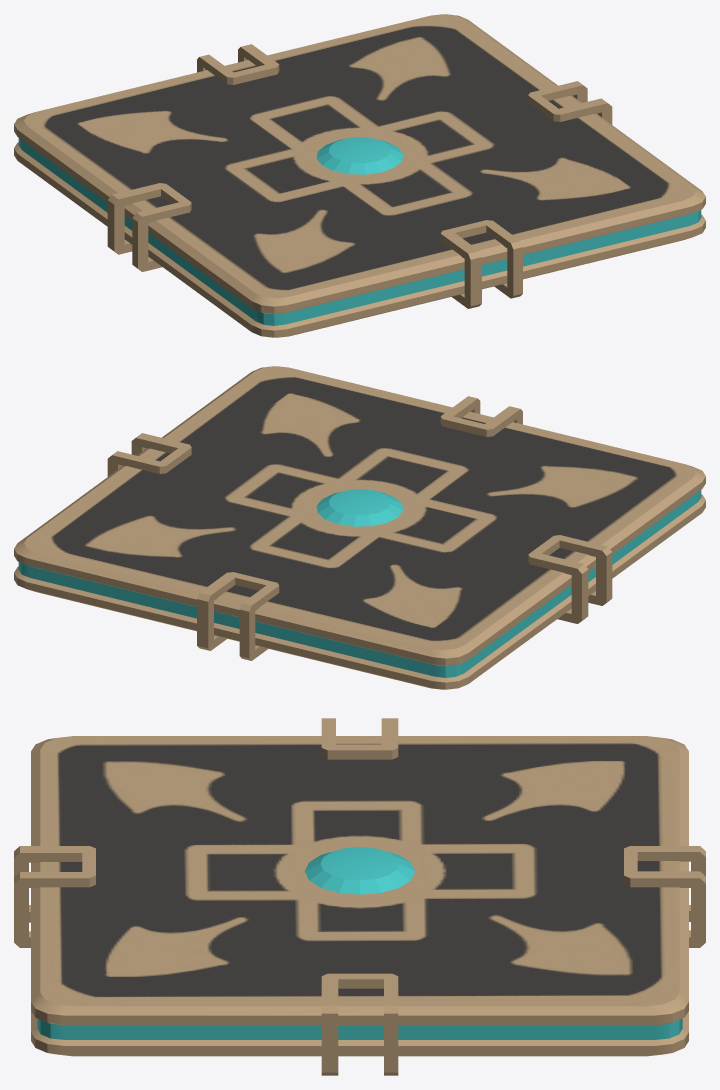
The model's file is elevater.fbx.
3 views of the same model, one above another, from view 1: azimuth 30°, elevation 25°; view 2: azimuth 150°, elevation 25°; view 3: azimuth 270°, elevation 25° (orthographic). The views are drawn at different scales.
Parts seen in each view (by area): view 1: polySurface3, pCube6, pCube7, polySurface2, pCube4, pCube5; view 2: polySurface3, pCube6, pCube5, polySurface2, pCube4, pCube7; view 3: polySurface3, pCube4, polySurface2, pCube5, pCube7, pCube6.
Part boxes in pixels (bbox=[...]): polySurface3: bbox=[14, 14, 705, 337]; pCube6: bbox=[107, 183, 191, 271]; pCube7: bbox=[440, 220, 522, 308]; polySurface2: bbox=[316, 137, 403, 174]; pCube4: bbox=[528, 81, 612, 124]; pCube5: bbox=[197, 44, 279, 84]; polySurface3: bbox=[14, 366, 705, 689]; pCube6: bbox=[528, 535, 612, 623]; pCube5: bbox=[197, 572, 279, 660]; polySurface2: bbox=[316, 489, 403, 526]; pCube4: bbox=[107, 433, 191, 476]; pCube7: bbox=[440, 396, 522, 436]; polySurface3: bbox=[31, 736, 688, 1056]; pCube4: bbox=[321, 973, 398, 1075]; polySurface2: bbox=[305, 847, 414, 894]; pCube5: bbox=[624, 846, 705, 947]; pCube7: bbox=[14, 846, 95, 947]; pCube6: bbox=[321, 718, 398, 759].
Bounding box in the file's own units: 5.28 × 0.6198 × 5.28.
1 material, 1 textured.
